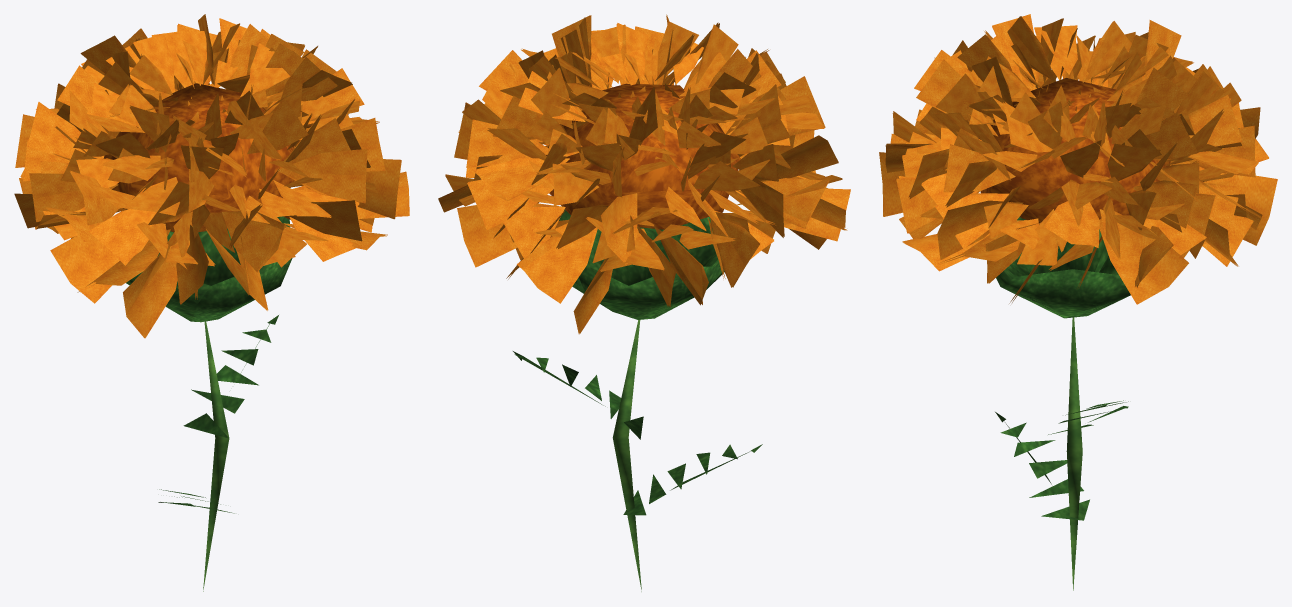
File: flor_baja.obj
The picture shows the model from 3 angles, left to right: view 1: azimuth 30°, elevation 25°; view 2: azimuth 150°, elevation 25°; view 3: azimuth 270°, elevation 25°; orthographic projection.
Visible parts, largest first — view 1: Flor_Cempasuchil; view 2: Flor_Cempasuchil; view 3: Flor_Cempasuchil.
Boxes of the visible parts, x1=… form: Flor_Cempasuchil: x1=14, y1=14, x2=409, y2=591; Flor_Cempasuchil: x1=438, y1=14, x2=850, y2=591; Flor_Cempasuchil: x1=879, y1=14, x2=1277, y2=590.
Bounding box in the file's own units: 0.24 × 0.3582 × 0.2362.
Materials: 4 (4 with a texture image).
